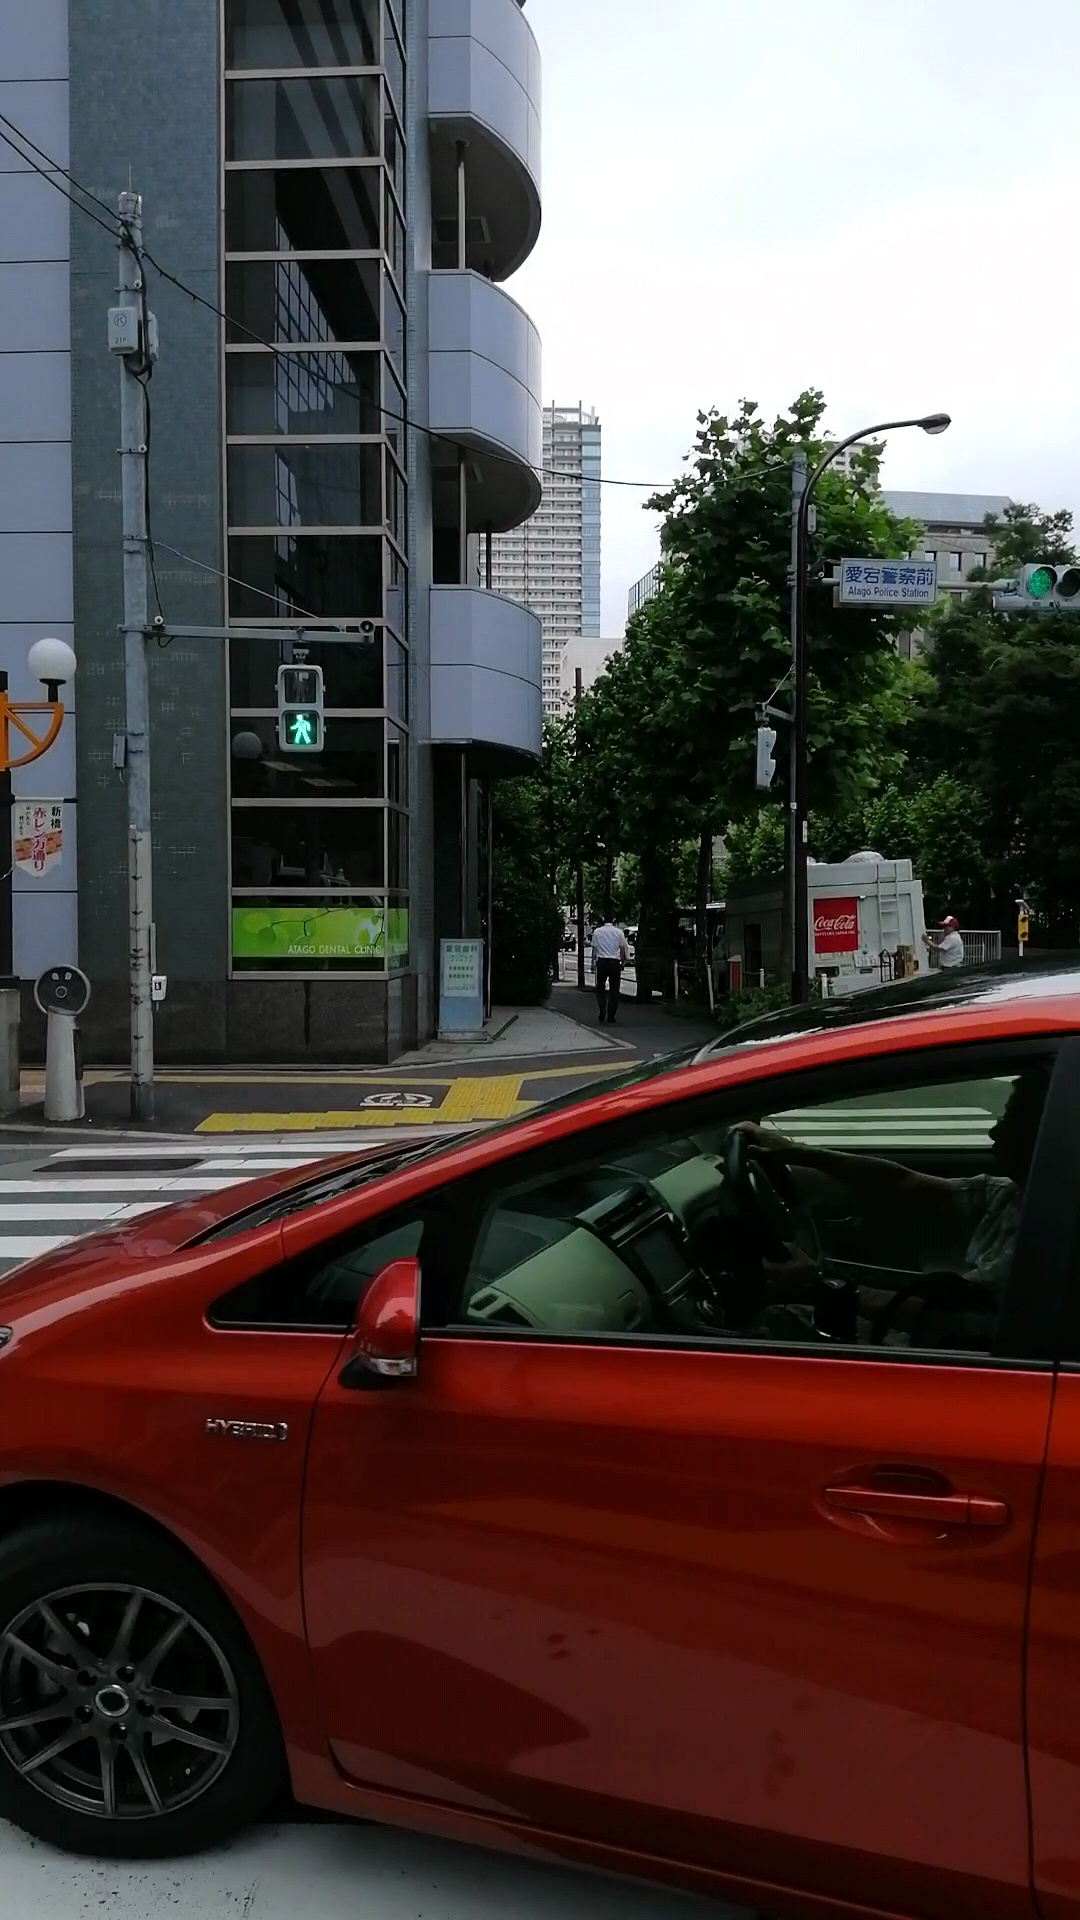green: (273, 662, 324, 753)
